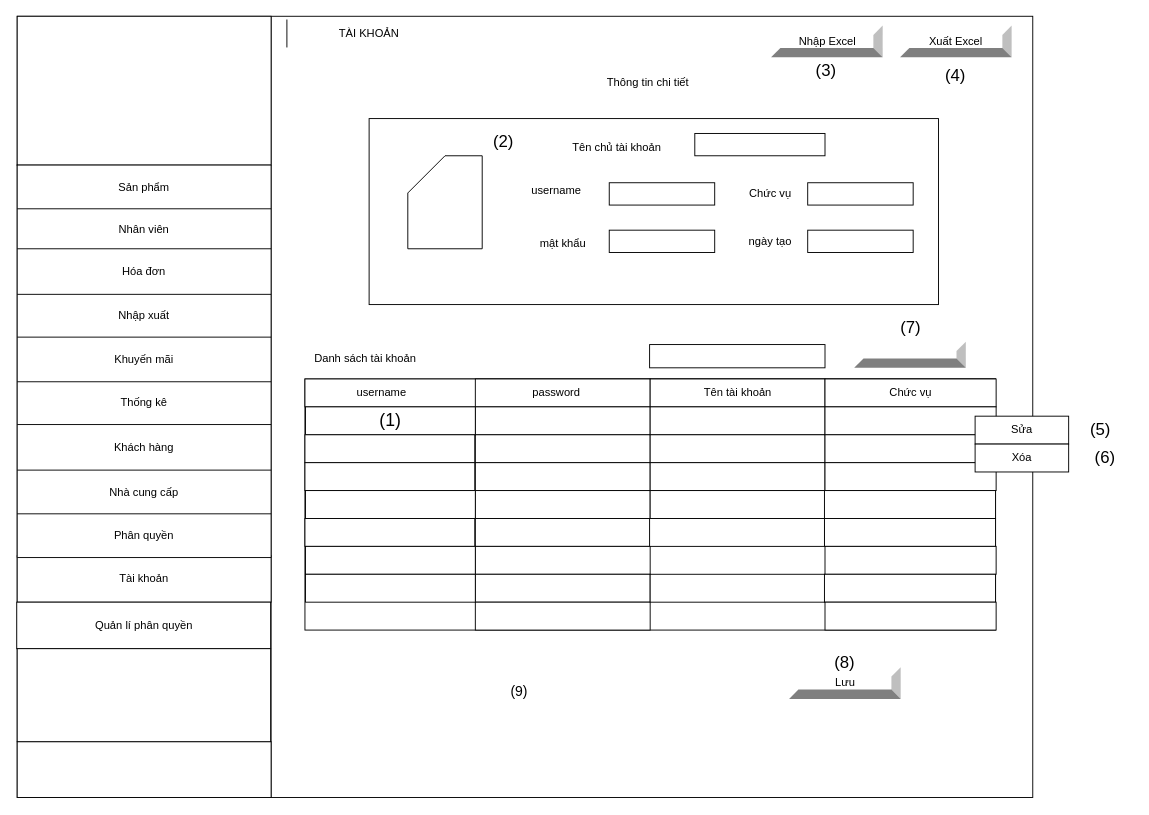
Some shapes in this 1149 by 815 pixel diagram are drawn without their labels. Each missing label, with the box of its shape:
Nhập username: (649, 344, 825, 368)
Quản lý Mini Mart: (16, 15, 271, 165)
Tìm: (853, 341, 966, 368)
Đăng xuất: (16, 741, 271, 797)
ảnh: (407, 155, 482, 249)
